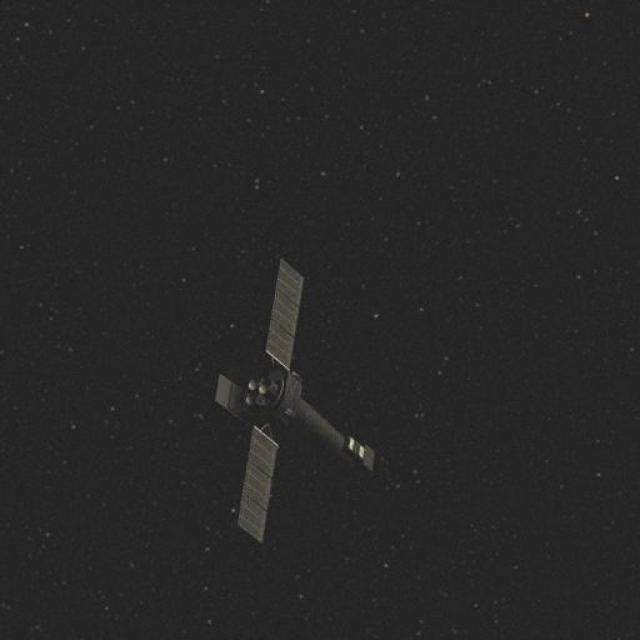xmm_newton: (202, 289, 353, 556)
